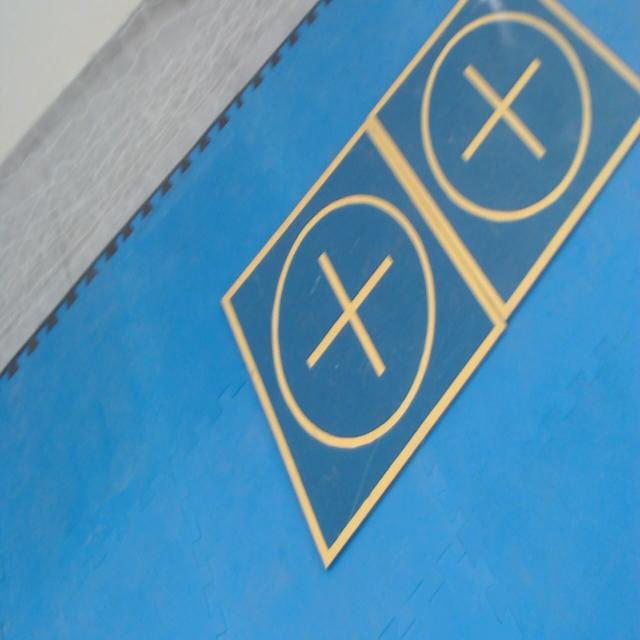base_pouso: (219, 122, 506, 574), (368, 0, 640, 324)
